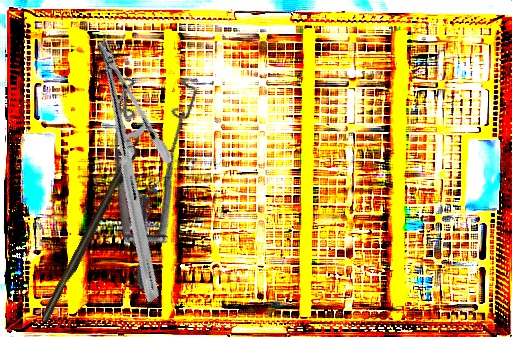Hook Surgical: (38, 117, 155, 324)
Needle Holder: (0, 36, 256, 304)
Speculum: (58, 49, 266, 290)
